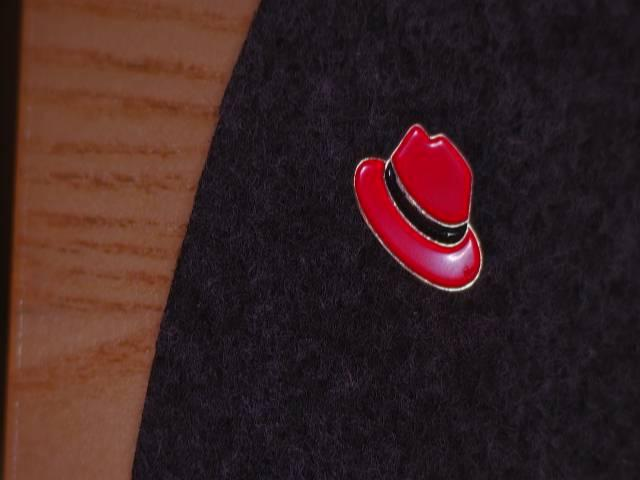Red-Hat: (330, 98, 504, 323)
